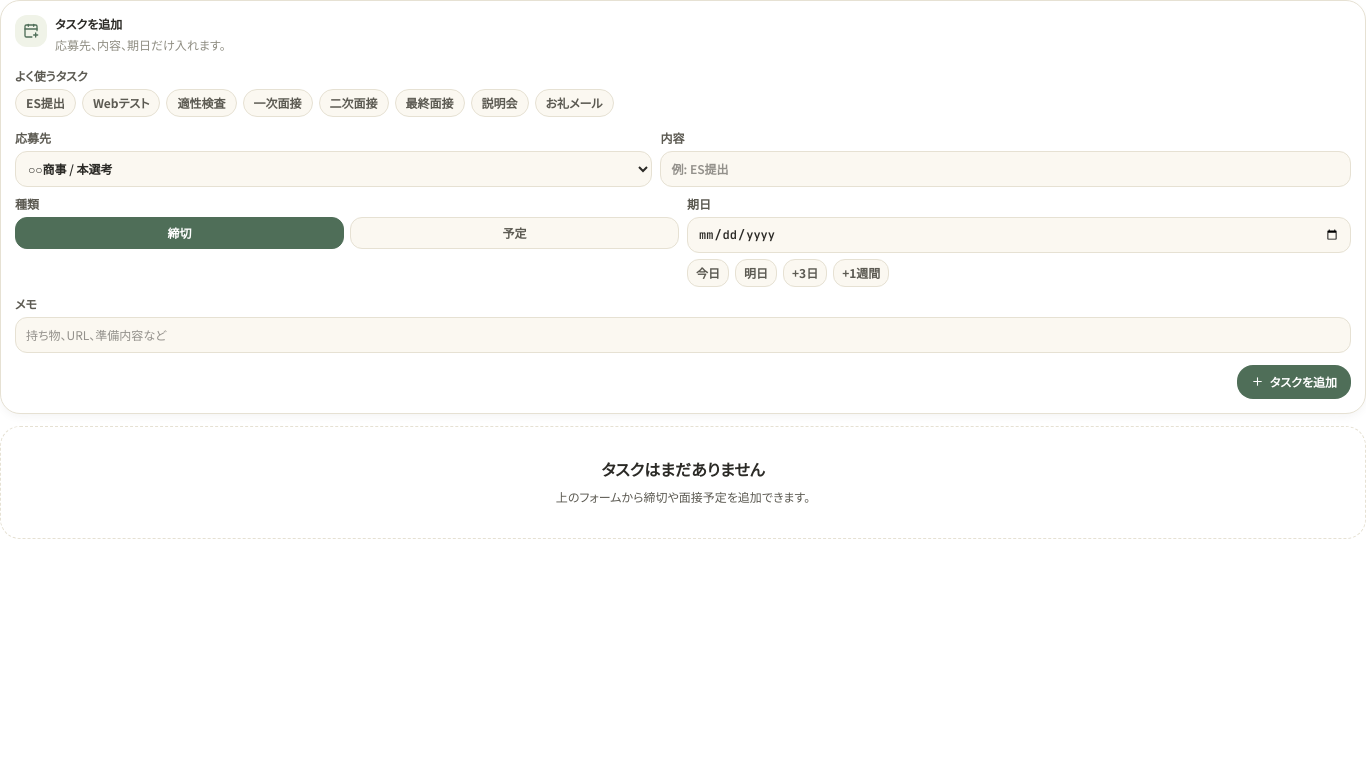
Test: TaskListView › 期日クイックボタンを押すと期日欄に基準日+N日が反映される
Click the button "+3日": (805, 272) [783,258,827,286]
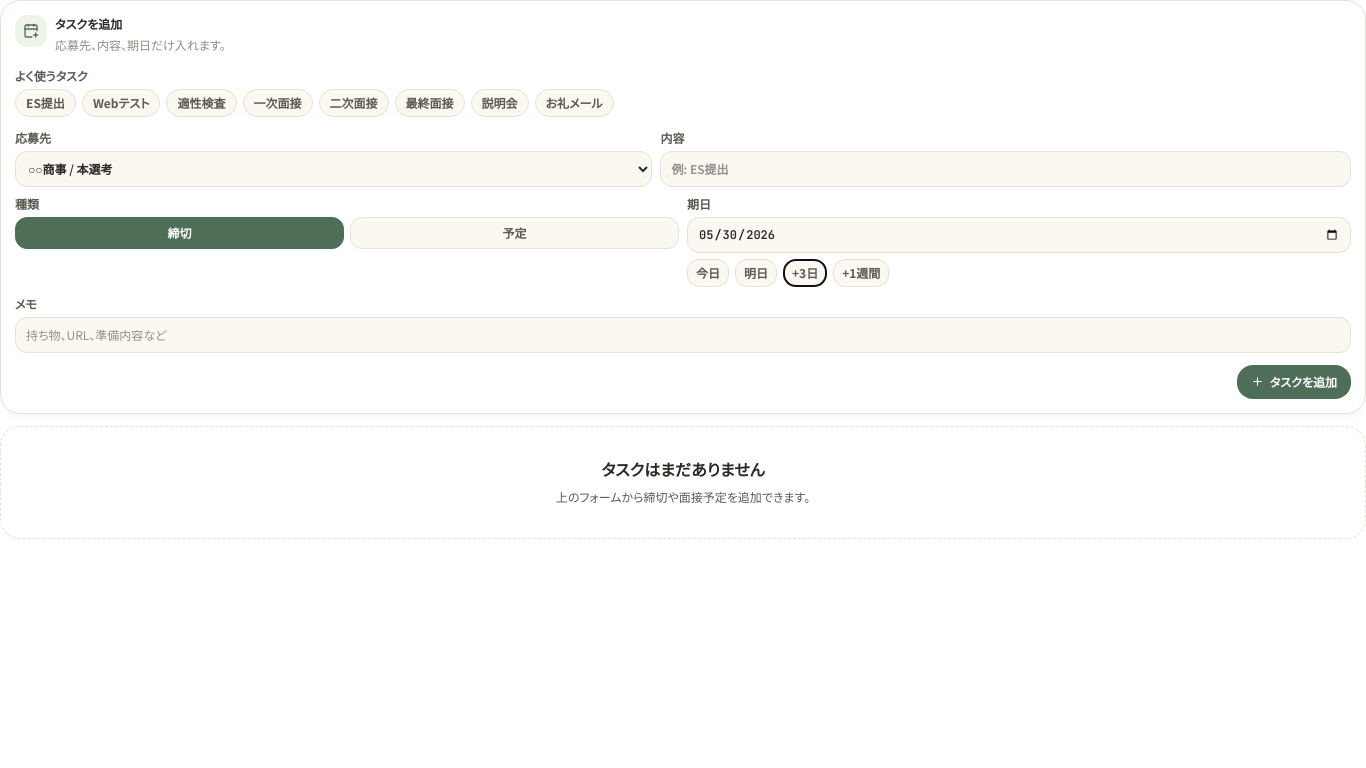
Expected: the date field labelled "期日" holds "2026-05-30", [687,216,1351,252]
Click the button "+1週間": (861, 272) [833,258,889,286]
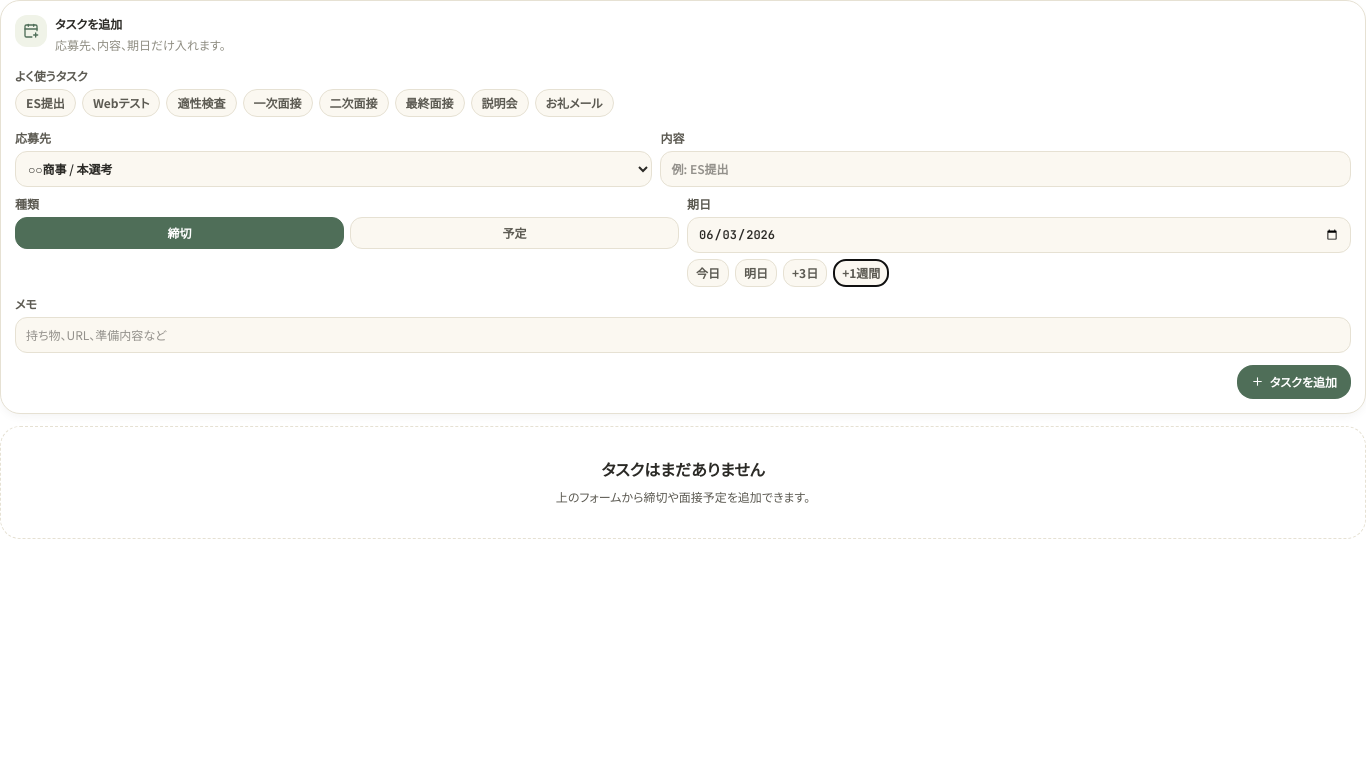
Expected: the date field labelled "期日" holds "2026-06-03", [687,216,1351,252]
Click the button "今日": (708, 272) [687,258,729,286]
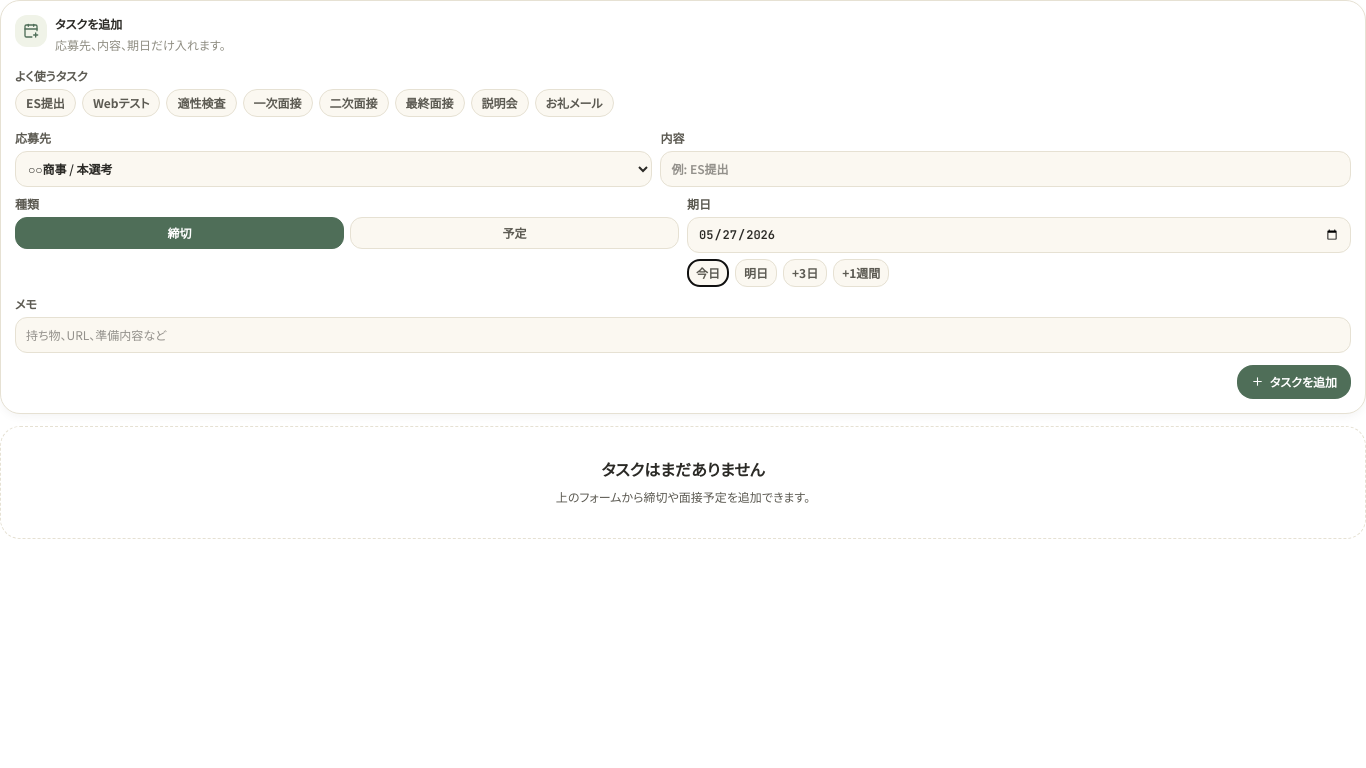
Expected: the date field labelled "期日" holds "2026-05-27", [687,216,1351,252]
